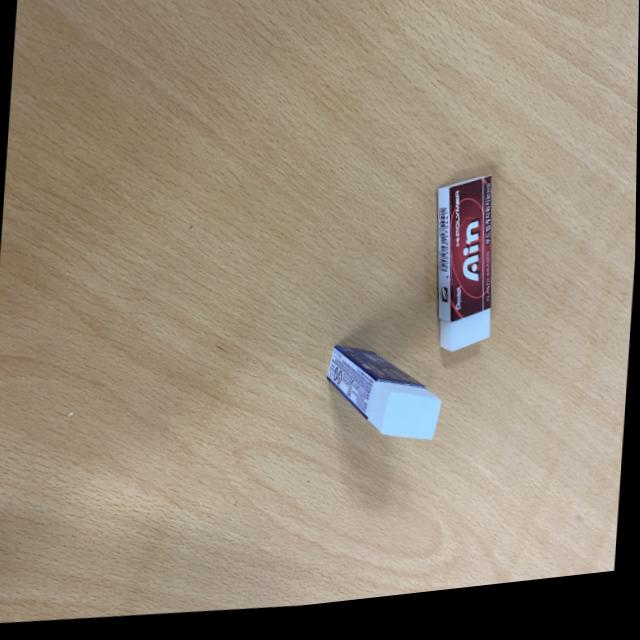blue: (320, 338, 446, 477)
red: (424, 175, 508, 374)
